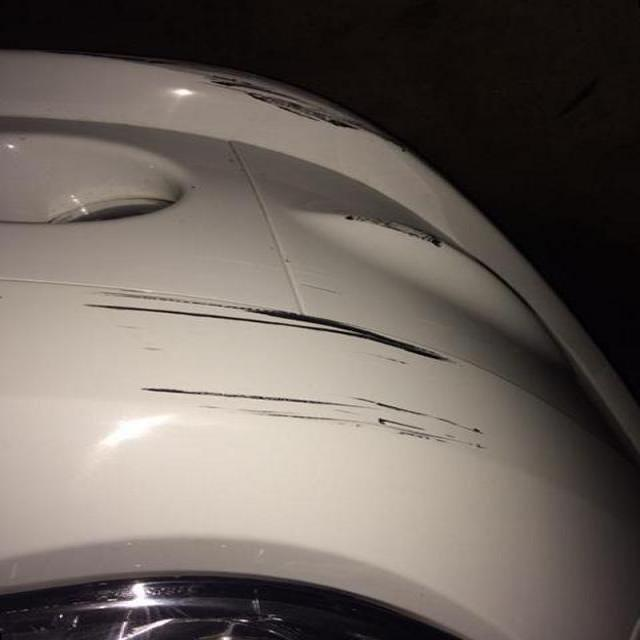scratch: (77, 280, 507, 464), (192, 65, 388, 140), (323, 202, 461, 262)
